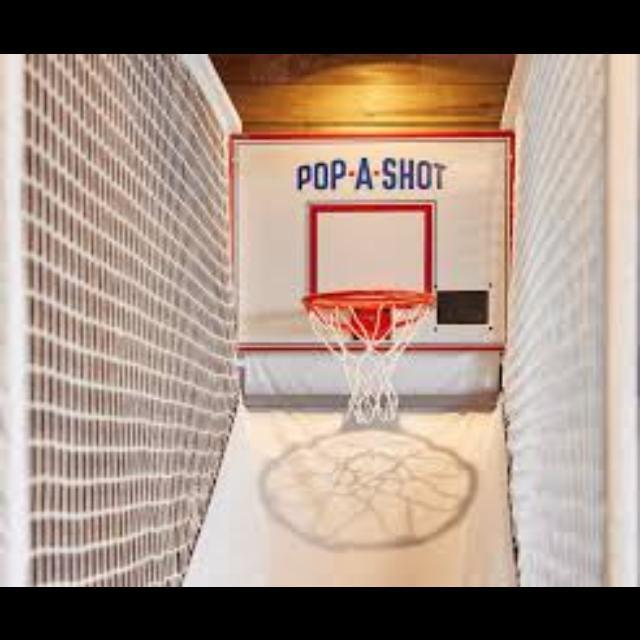rim: (304, 288, 436, 424)
